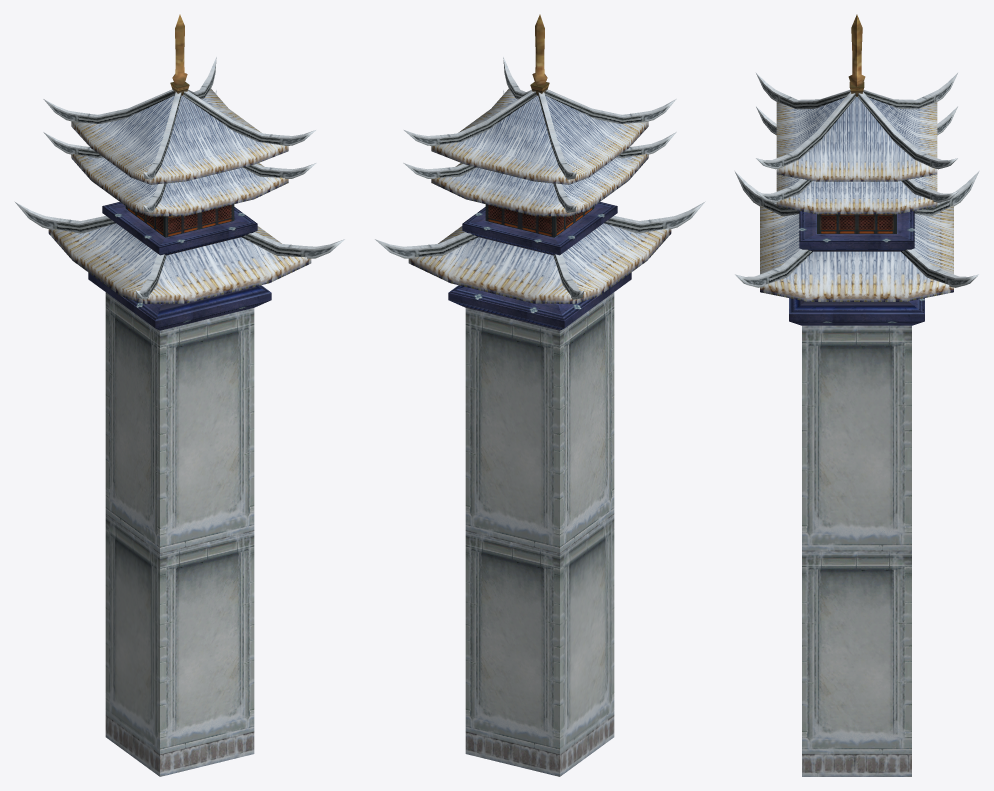
The model's file is jz_louge_02.FBX.
The picture shows the model from 3 angles, left to right: view 1: azimuth 30°, elevation 25°; view 2: azimuth 150°, elevation 25°; view 3: azimuth 270°, elevation 25°; orthographic projection.
Parts seen in each view (by area): view 1: jz_louge_02; view 2: jz_louge_02; view 3: jz_louge_02.
Part boxes in pixels (x1=…): jz_louge_02: x1=14, y1=14, x2=344, y2=776; jz_louge_02: x1=375, y1=14, x2=705, y2=776; jz_louge_02: x1=734, y1=14, x2=979, y2=776.
Bounding box in the file's own units: 538 × 1790 × 538.
